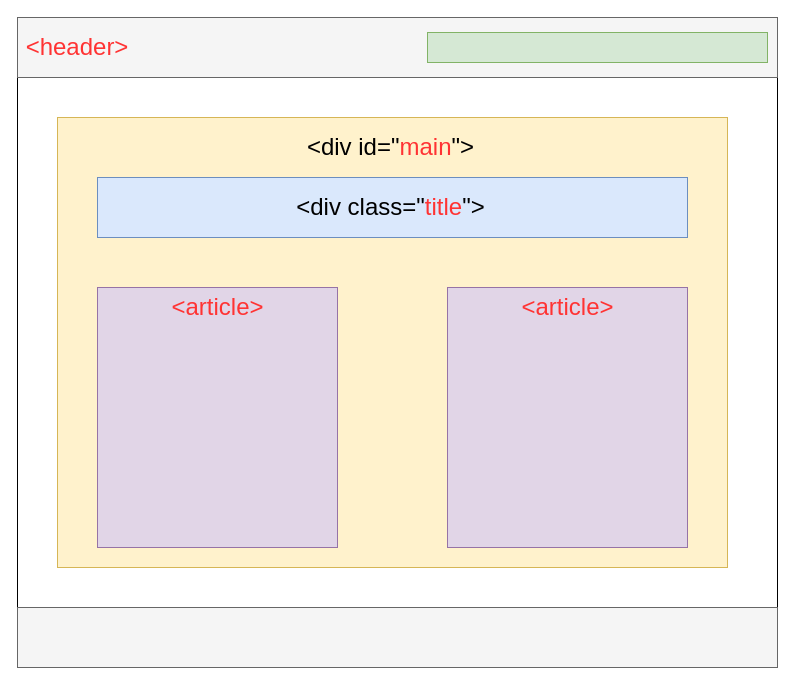
Some shapes in this 795 by 685 pixel diagram are drawn without their labels. The box of each missing label's shape, as (x1, y1, x2, y2) in pixels:
<div id=" navigation ">: (426, 32, 768, 62)
<footer>: (16, 606, 778, 668)
